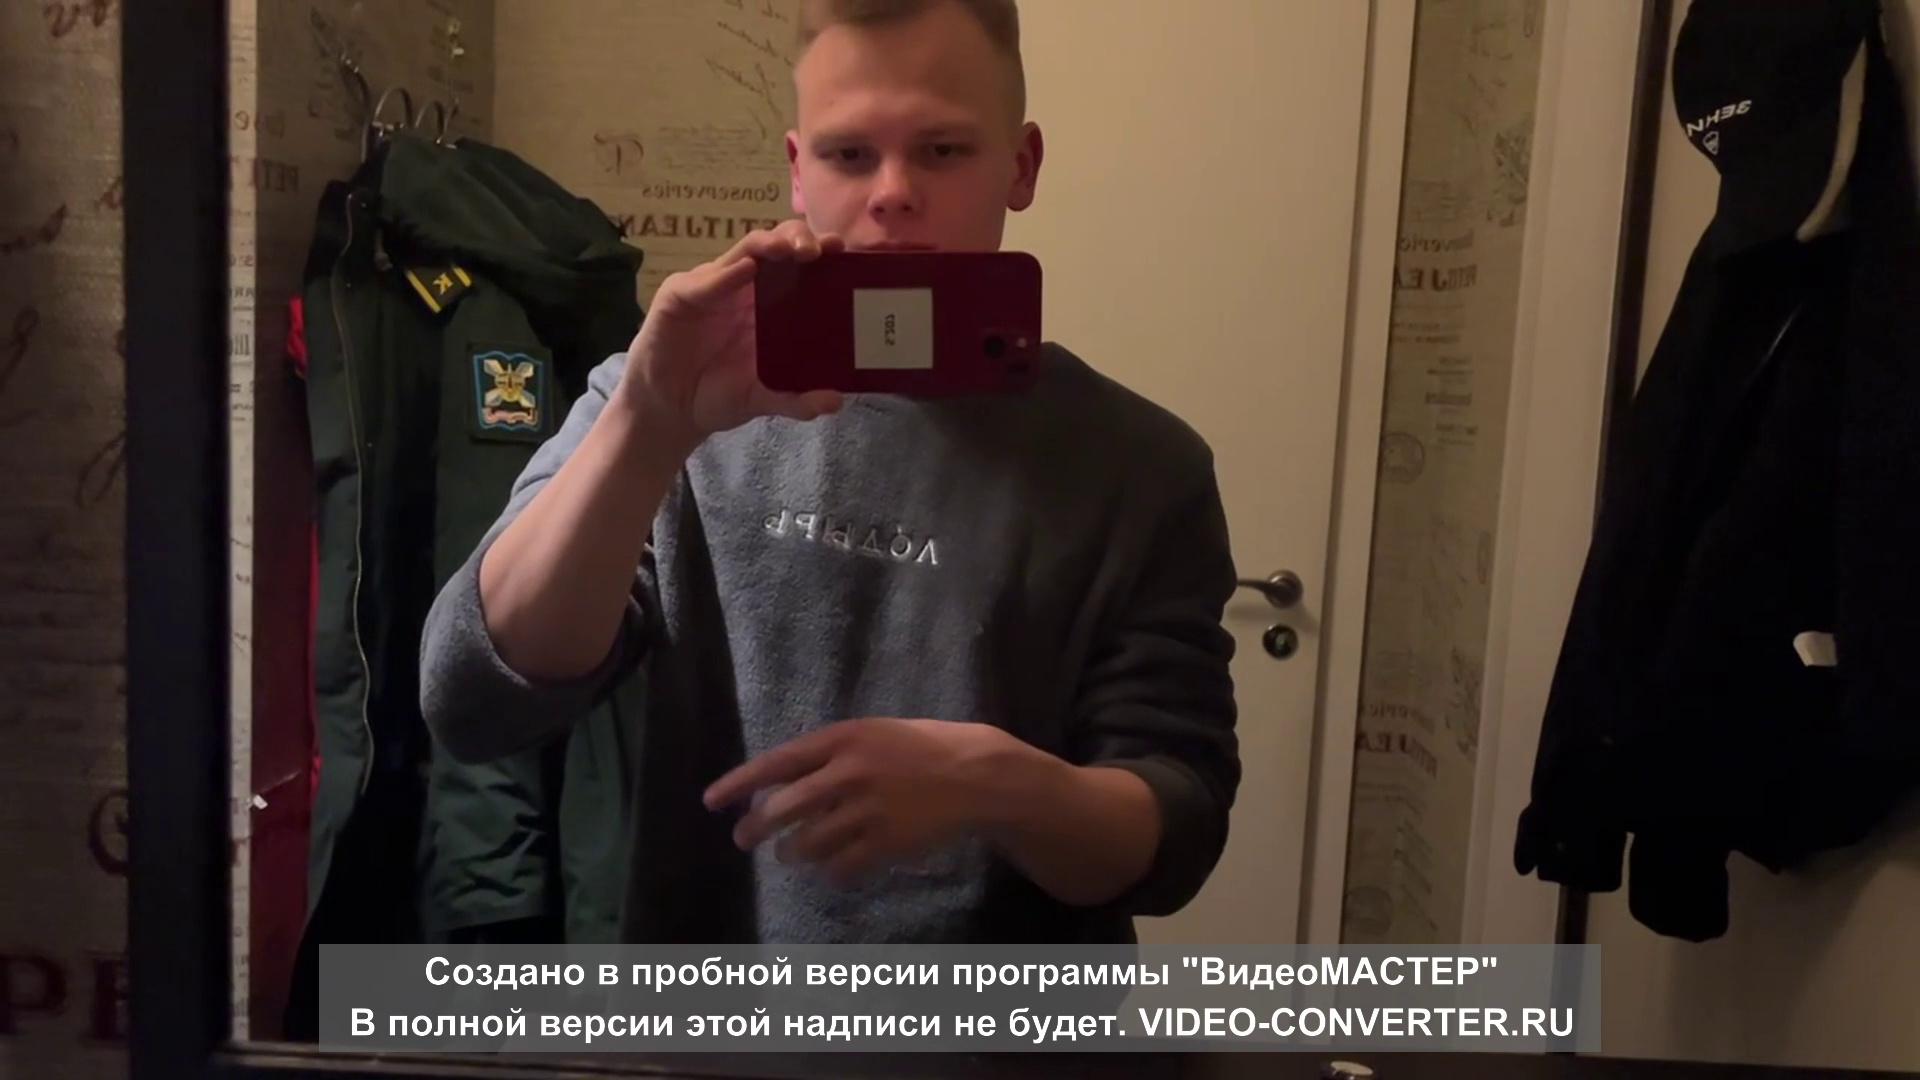Кисть: (702, 713, 998, 893)
